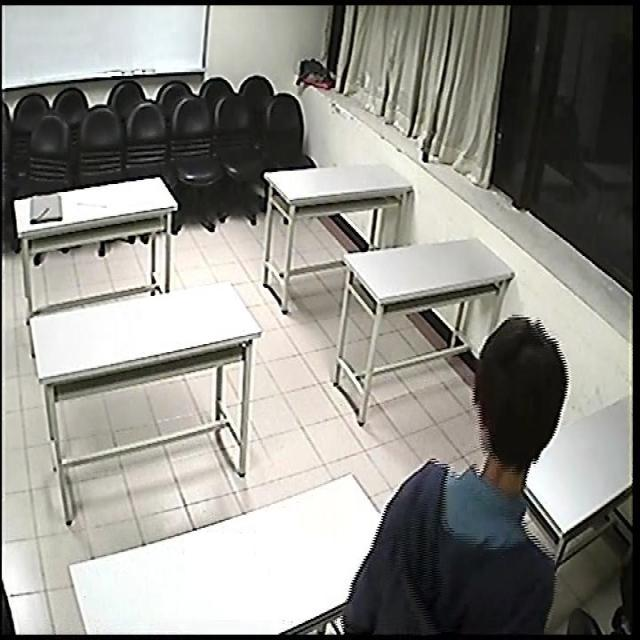abandoned-object: (294, 38, 361, 126)
